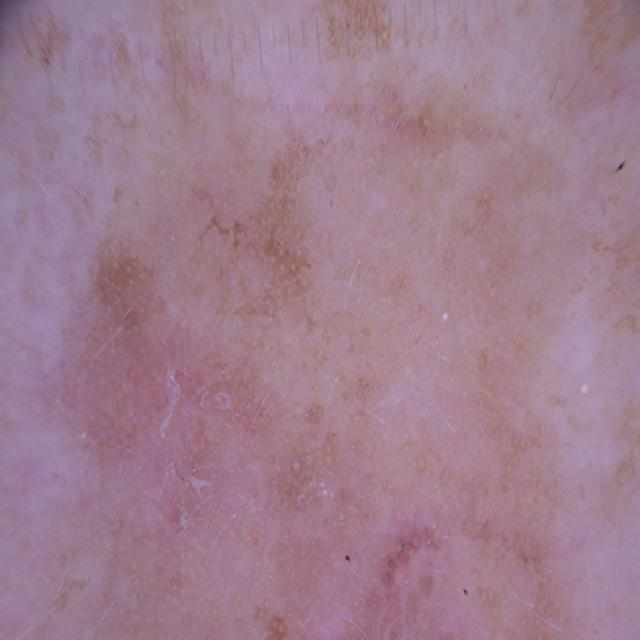Keratosis: (134, 262, 517, 640)
